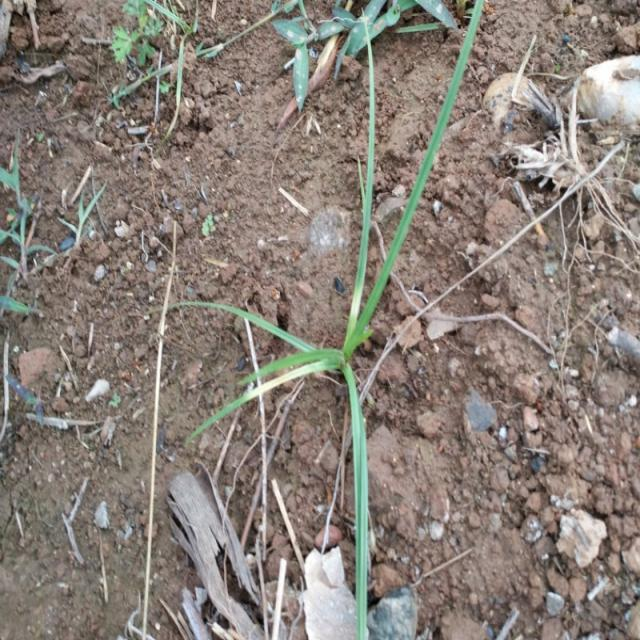sedge: (215, 36, 521, 590)
